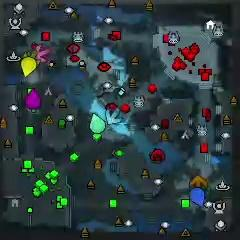p1: (189, 188, 205, 208)
p2: (89, 113, 105, 133)
p3: (25, 88, 42, 110)
p4: (21, 57, 36, 78)
x1: (35, 44, 51, 63)
x2: (23, 51, 40, 66)
x3: (106, 108, 123, 124)
x5: (189, 176, 208, 189)
